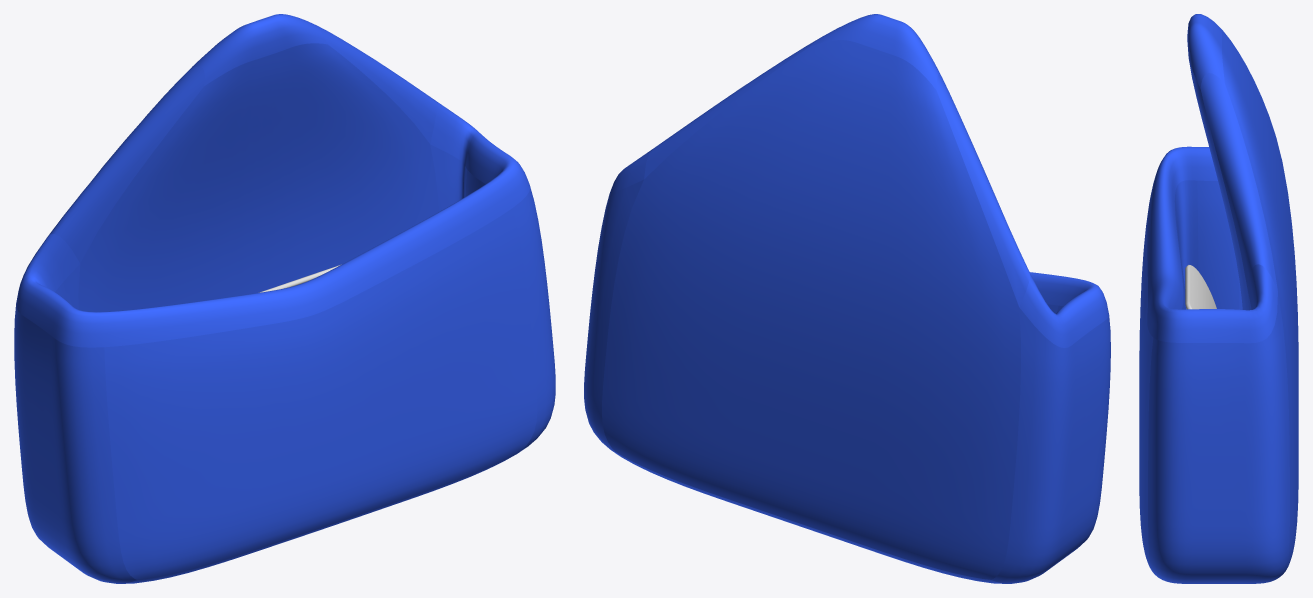
File: email-sent-animated-3d-icon-627714788434.glb
3 renders of one model, left to right at view 1: azimuth 30°, elevation 25°; view 2: azimuth 150°, elevation 25°; view 3: azimuth 270°, elevation 25°, orthographic. The views are drawn at different scales.
Parts seen in each view (by area): view 1: Cube.001; view 2: Cube.001; view 3: Cube.001, Retopo_Plane.003.
Boxes of the visible parts, x1,y1,x2,y2 form: Cube.001: (14, 14, 555, 583); Cube.001: (584, 14, 1110, 583); Cube.001: (1139, 14, 1298, 583); Retopo_Plane.003: (1185, 265, 1216, 309).
Size of what is drawn, in the model's own units: 2.04 by 2.04 by 0.6.
